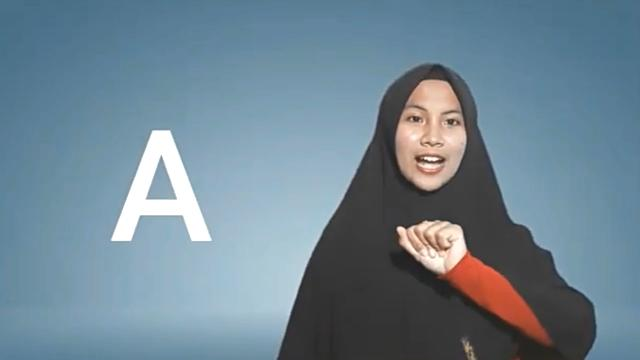A: (393, 219, 471, 278)
